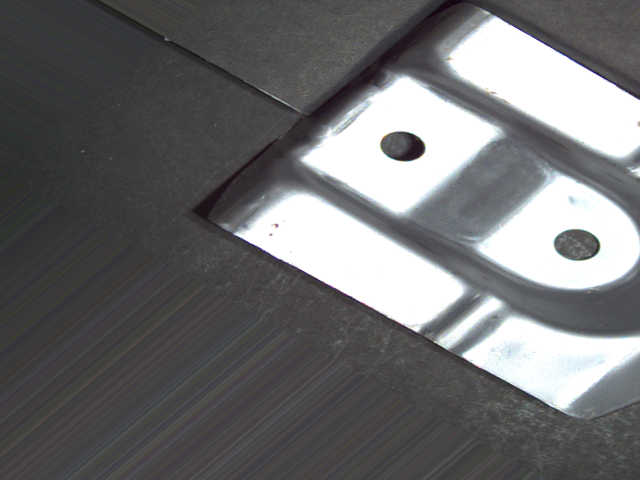defect: (546, 223, 606, 263)
